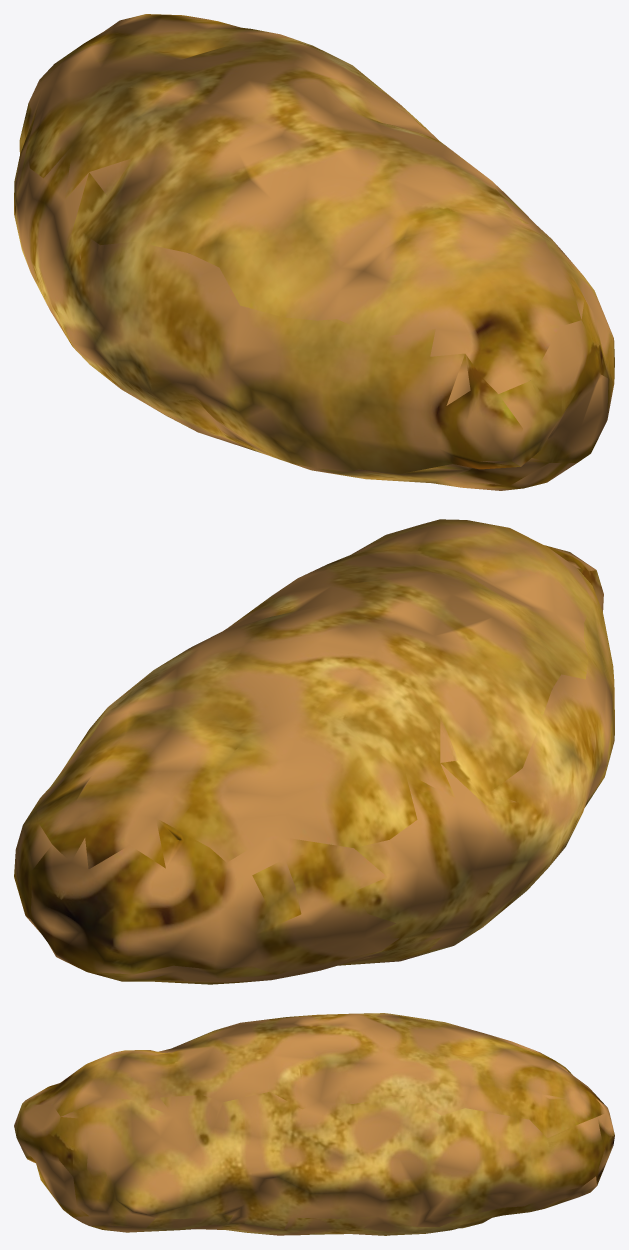
Rendered from Smeared_Potato.obj.
3 renders of one model, top to bottom at view 1: azimuth 30°, elevation 25°; view 2: azimuth 150°, elevation 25°; view 3: azimuth 270°, elevation 25°, orthographic. The views are drawn at different scales.
Visible parts, largest first — view 1: Smeared_Potato_potato; view 2: Smeared_Potato_potato; view 3: Smeared_Potato_potato.
Part boxes in pixels (bbox=[...]): Smeared_Potato_potato: bbox=[14, 14, 614, 490]; Smeared_Potato_potato: bbox=[14, 519, 614, 984]; Smeared_Potato_potato: bbox=[14, 1013, 614, 1235].
Size of the model in its own units: 0.8671 by 0.6598 by 1.82.
Materials: 1 (1 with a texture image).
